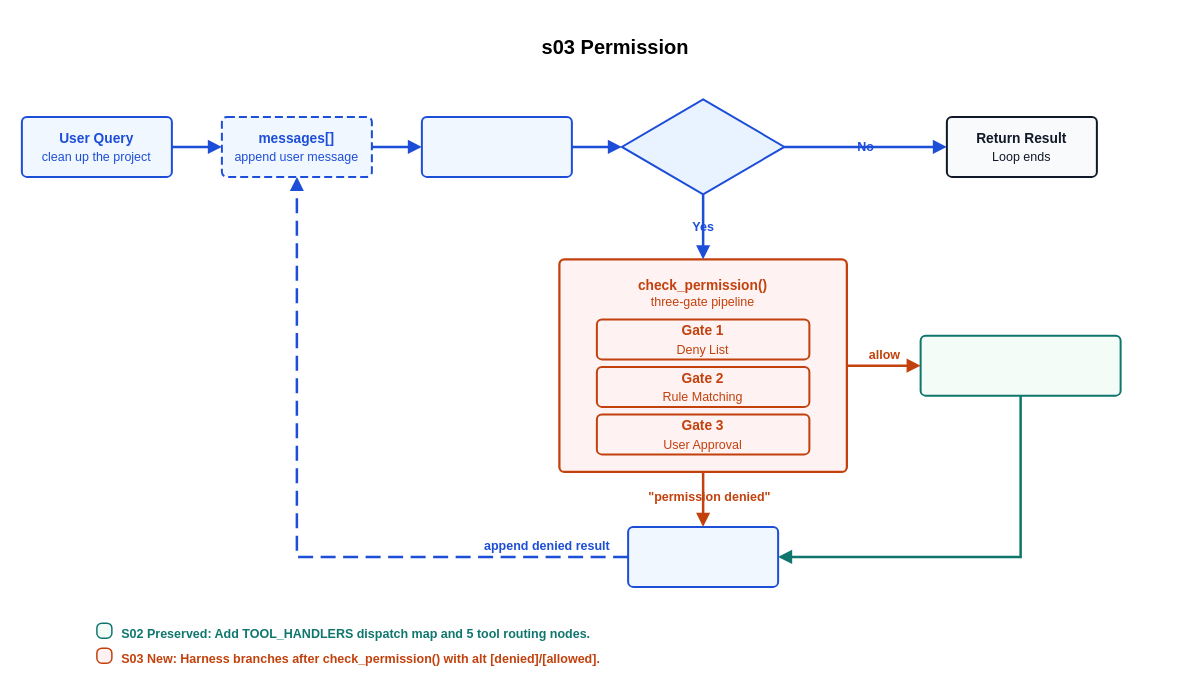
Image size: 1191x690. Some labels were removed from this diagram. The box of each missing label's shape, as (x1, y1, x2, y2) in pixels:
LLM content + stop_reason: (420, 115, 572, 177)
stop_reason == "tool_use"?: (620, 98, 785, 195)
TOOL_HANDLERS bash/read/write/edit/glob: (919, 334, 1121, 396)
tool_result append to messages[]: (626, 525, 778, 587)
